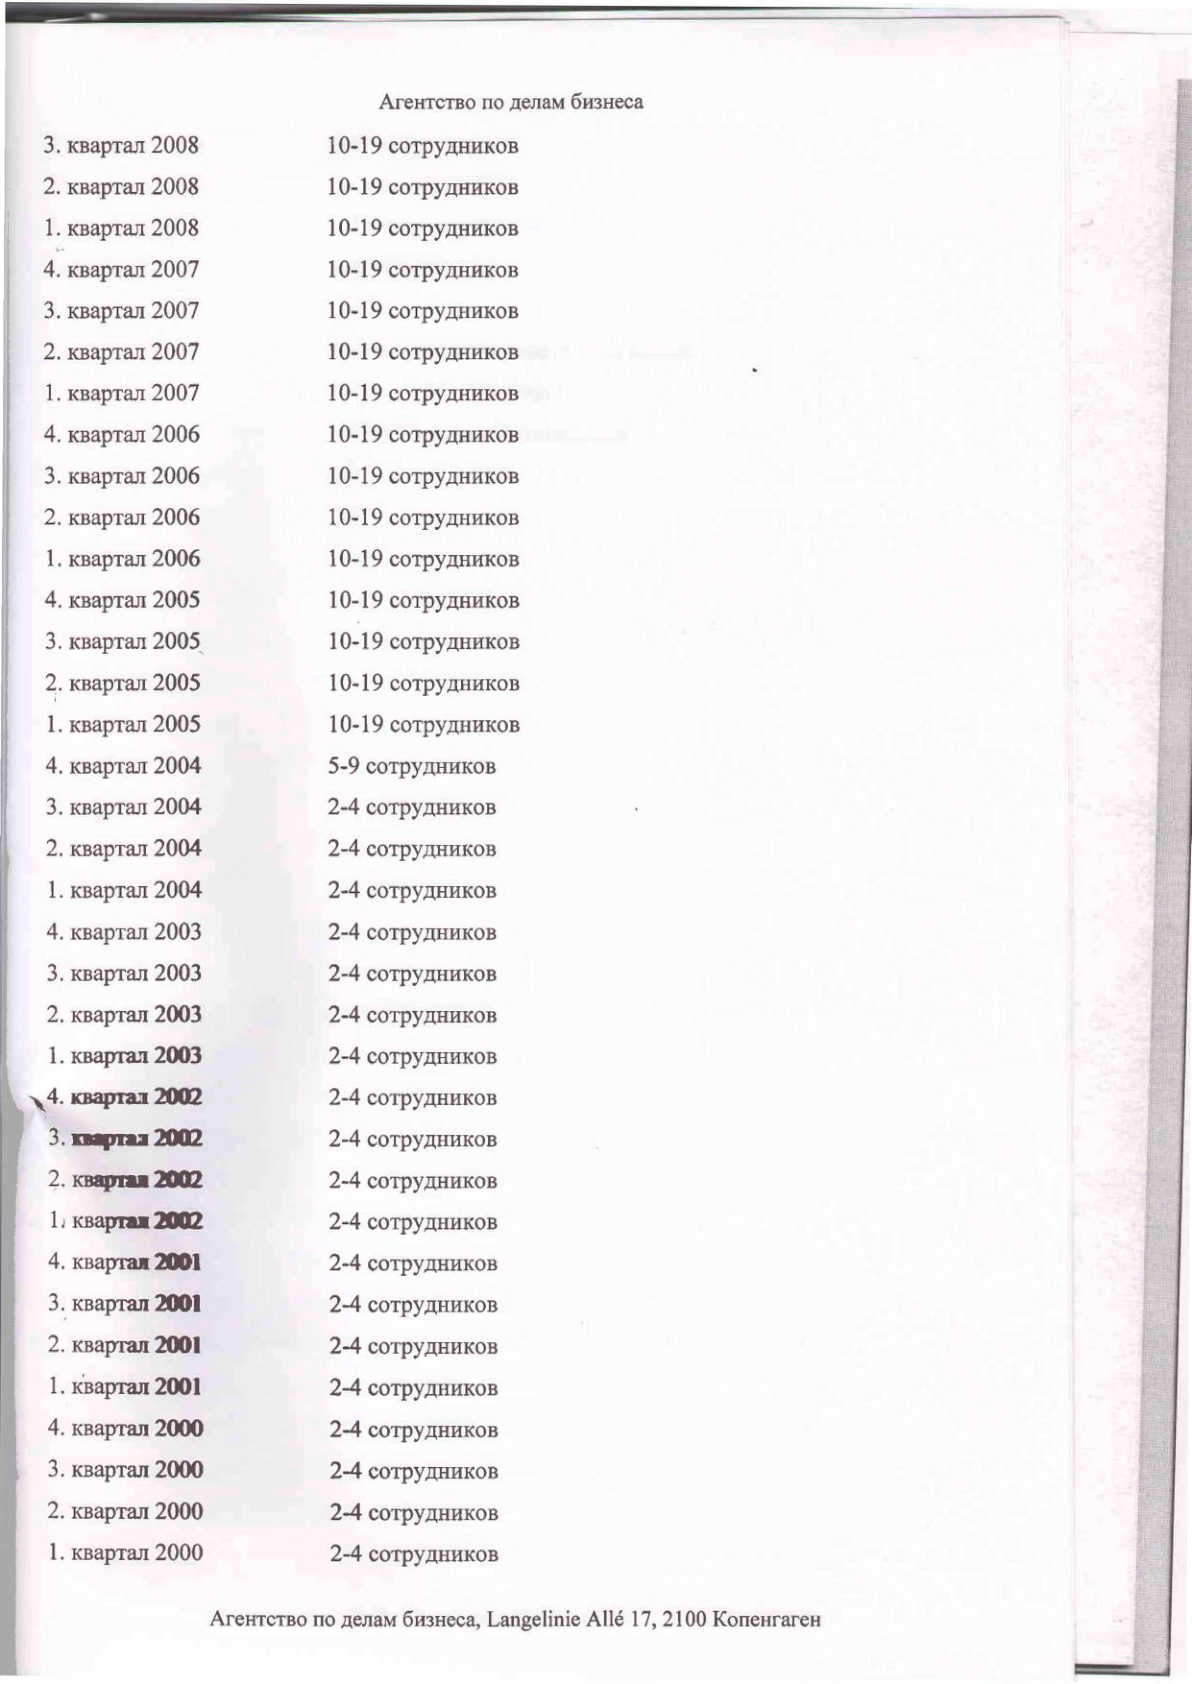nolines: (40, 133, 522, 1569)
